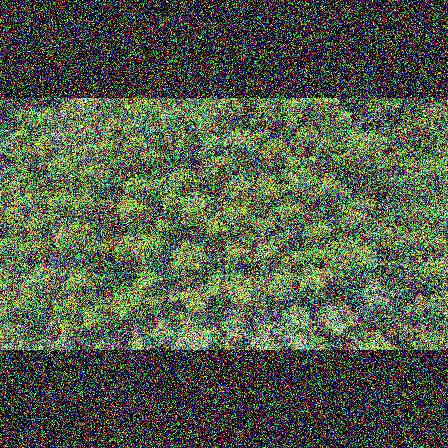Dead: (48, 128, 72, 154)
